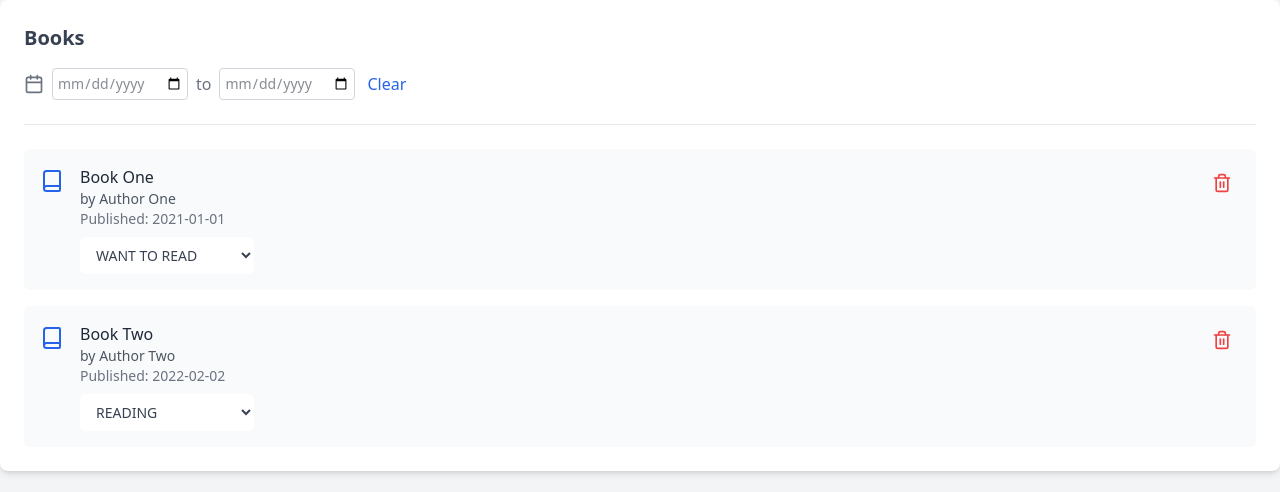
Test case: BooksList › should clear date filters when clear button is clicked
Type "2021-01-01" into the date field with test id "startDate". click: (120, 84)
box: [52,68,188,100]
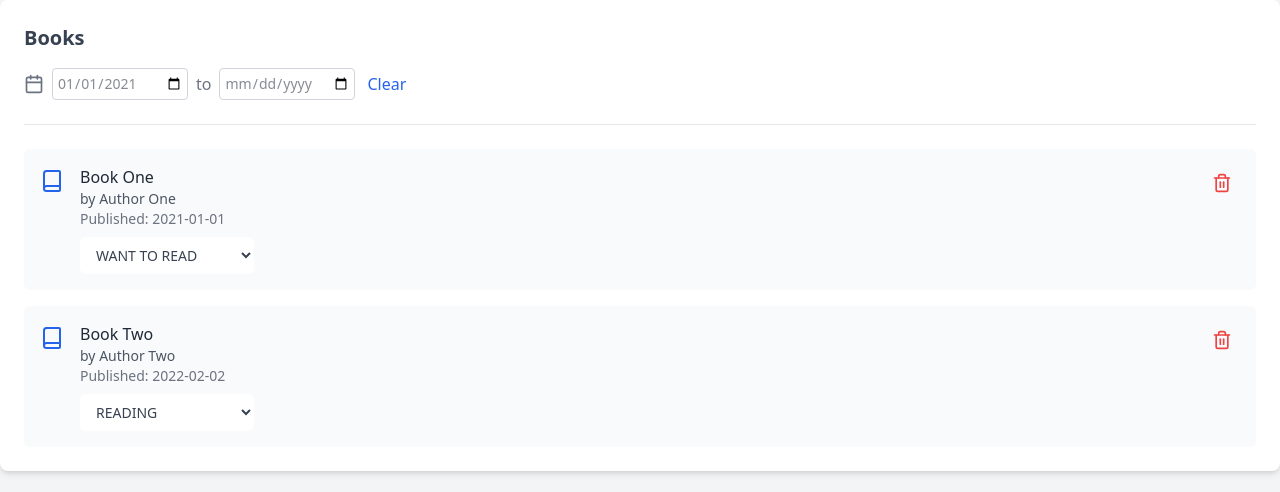
Type "2021-12-31" into the date field with test id "endDate". click: (288, 84)
box: [220,68,356,100]
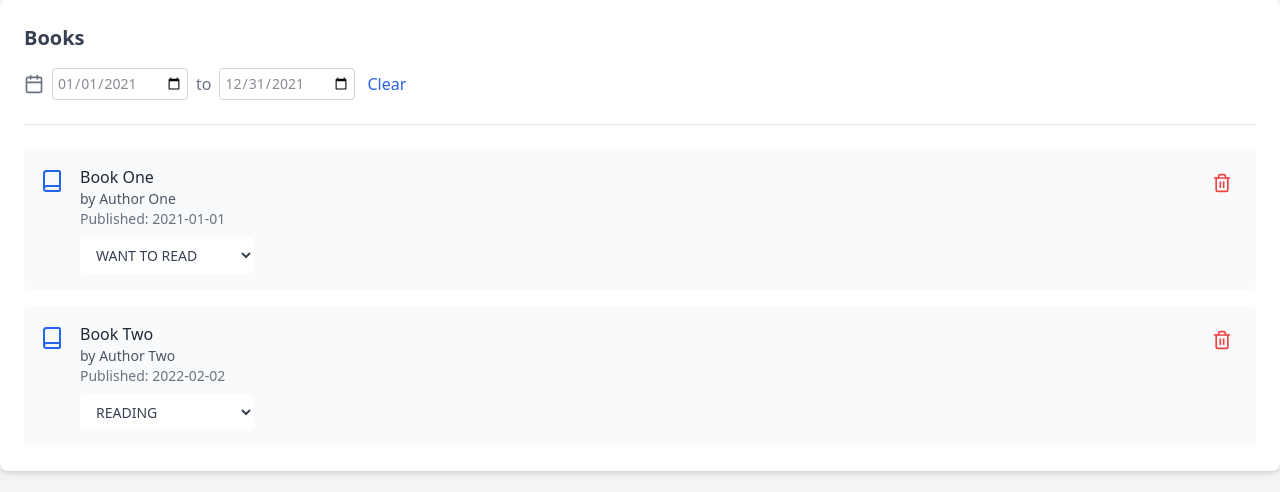
Click the button "Clear". click: (387, 84)
box: [368,72,406,96]
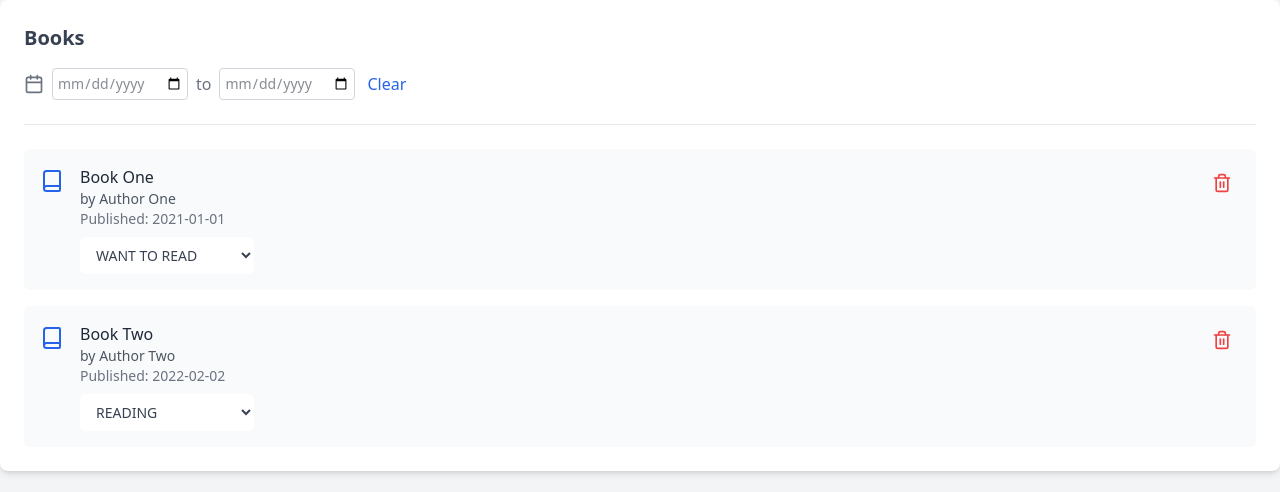
Check: the date field with test id "startDate" is empty, box [52,68,188,100]
Check: the date field with test id "endDate" is empty, box [220,68,356,100]
